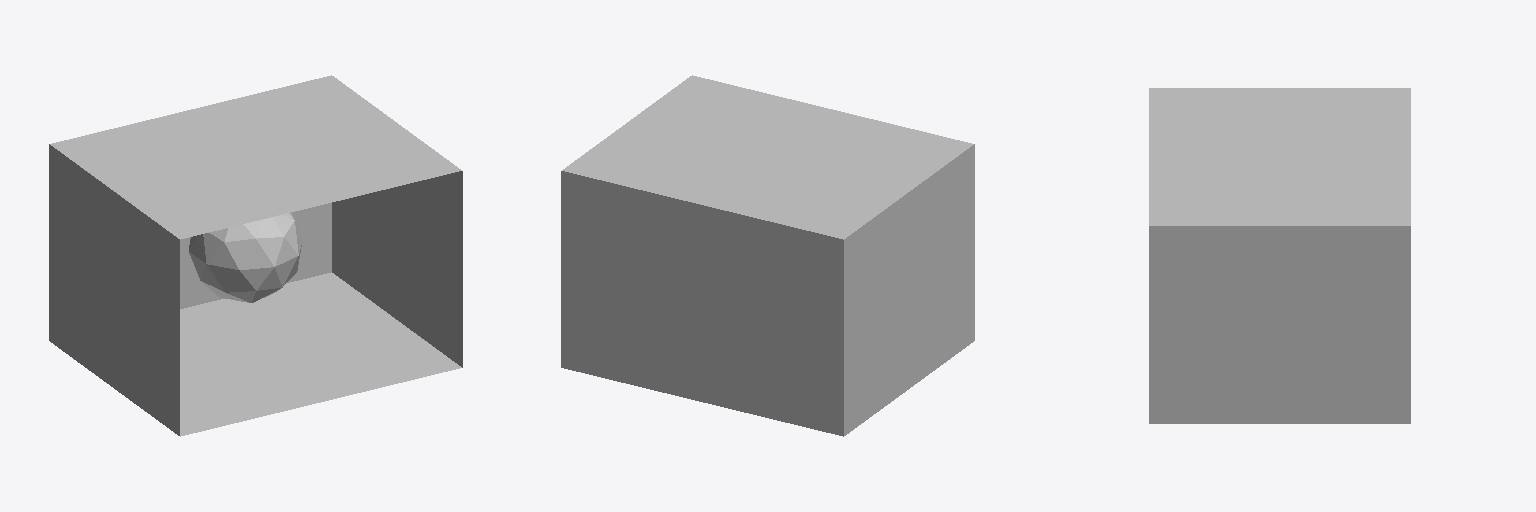
Rendered from icosphere-glass.obj.
3 renders of one model, left to right at view 1: azimuth 30°, elevation 25°; view 2: azimuth 150°, elevation 25°; view 3: azimuth 270°, elevation 25°, orthographic.
Parts seen in each view (by area): view 1: Walls, Icosphere; view 2: Walls; view 3: Walls.
Part boxes in pixels (left/top/right/bottom): Walls: left=49, top=75, right=462, bottom=436; Icosphere: left=189, top=213, right=301, bottom=302; Walls: left=561, top=75, right=974, bottom=436; Walls: left=1149, top=88, right=1410, bottom=423.
Size of the model in its own units: 3 by 2 by 2.4.